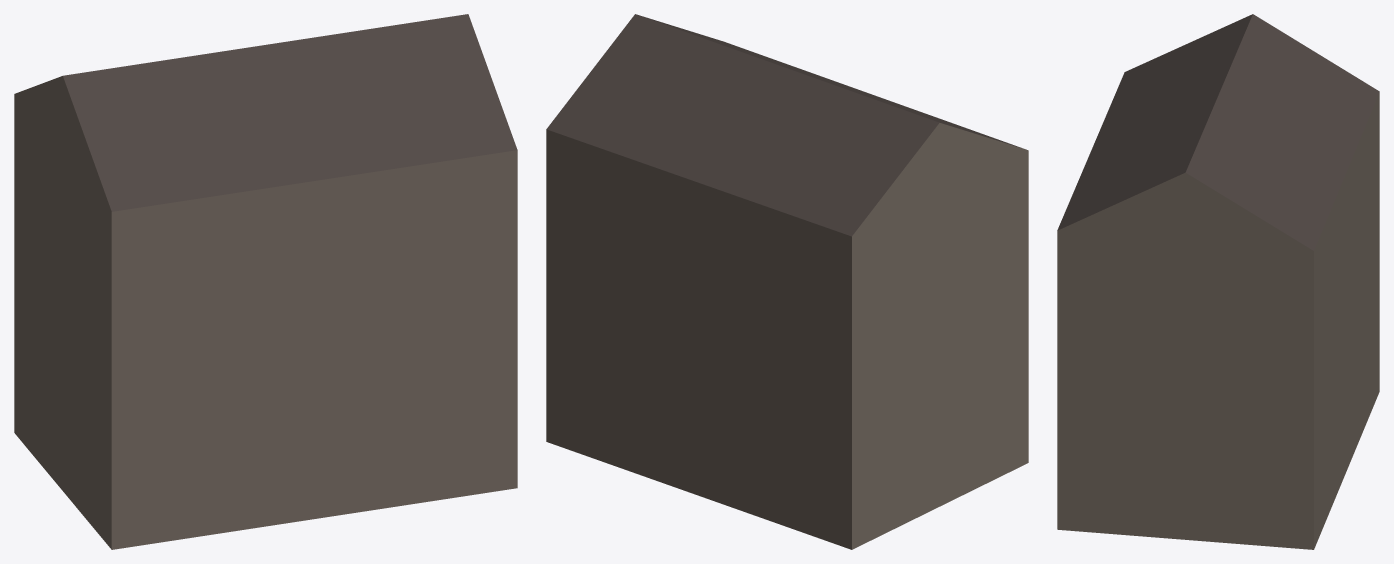
The picture shows the model from 3 angles, left to right: view 1: azimuth 30°, elevation 25°; view 2: azimuth 150°, elevation 25°; view 3: azimuth 270°, elevation 25°; orthographic projection. The views are drawn at different scales.
Visible parts, largest first — view 1: HP-w505643553; view 2: HP-w505643553; view 3: HP-w505643553.
Boxes of the visible parts, box(x1,y1,x2,y2) form: HP-w505643553: box(14, 14, 517, 549); HP-w505643553: box(546, 14, 1028, 549); HP-w505643553: box(1057, 14, 1379, 549).
Bounding box in the file's own units: 11.55 × 11.06 × 8.8.
